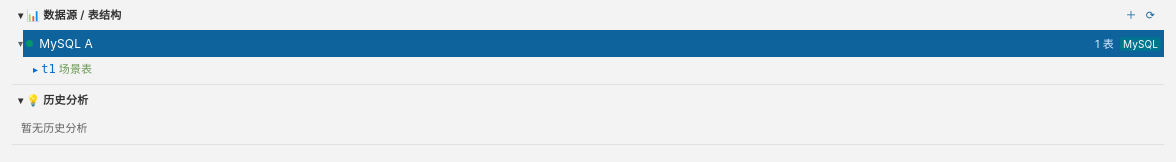
Test: DataSourceTree：多数据源 / 收起 / 双击预览 › 点折叠箭头收起数据源 → 表列表隐藏，再点展开
This screenshot has width=1176, height=162.
Expected: the text "t1" is shown, [41,60,56,78]
Click the button named "收起" at (21, 43), box [18,37,23,49]
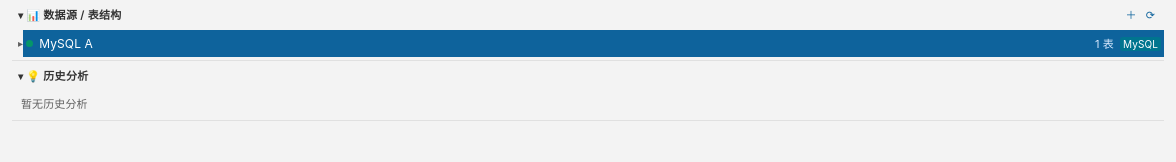
Now the button "t1" is gone
Click the button named "展开" at (21, 43), box [18,37,23,49]
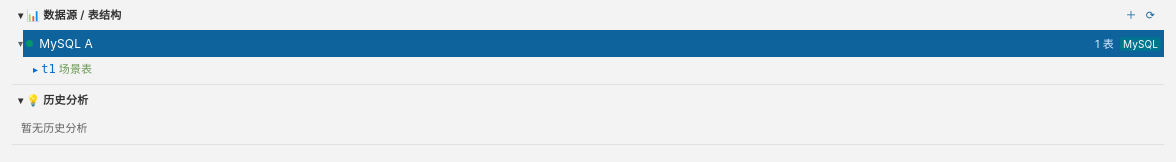
Now the text "t1" is shown, box [41,60,56,78]
